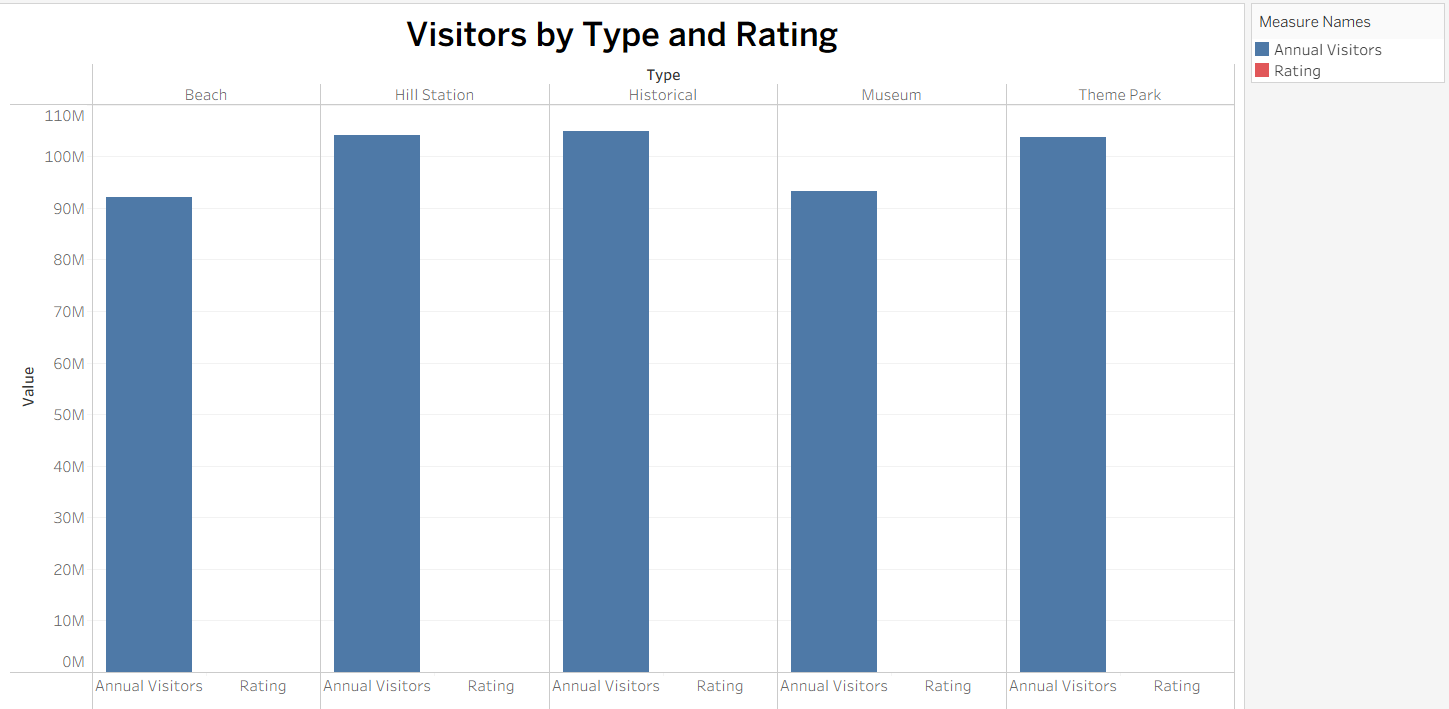

Layout of this report page (visuals, bound fields, positions):
{"tool":"tableau","page":{"name":"Dashboard 3","canvas":[1000,1000],"units":"permille","ordinal":2},"visuals":[{"type":"worksheet","title":"Sheet 7","mark":"Automatic","box":[4.9,10.2,892.7,979.6]},{"type":"legend","title":"Sheet 7","param":"[federated.1f3yszq0ng22h01115kip0394kwc].[sum:Entry Fee:qk]","box":[898.8,12.7,95.1,93]},{"type":"legend","title":"Sheet 7","param":"[federated.1f3yszq0ng22h01115kip0394kwc].[sum:Annual Visitors:qk]","box":[898.8,105.7,95.1,145.2]}]}

Visuals, with their boxes on the dashboard's canvas, which has no fixed pixel size, in thousandths of its width and height (x1, y1, x2, y2). These are canvas units, not pixel positions in the 1449x709 screenshot, which may show the page scaled, cropped or inside an application window:
"Sheet 7" worksheet: bbox(5, 10, 898, 990)
"Sheet 7" legend: bbox(899, 13, 994, 106)
"Sheet 7" legend: bbox(899, 106, 994, 251)
